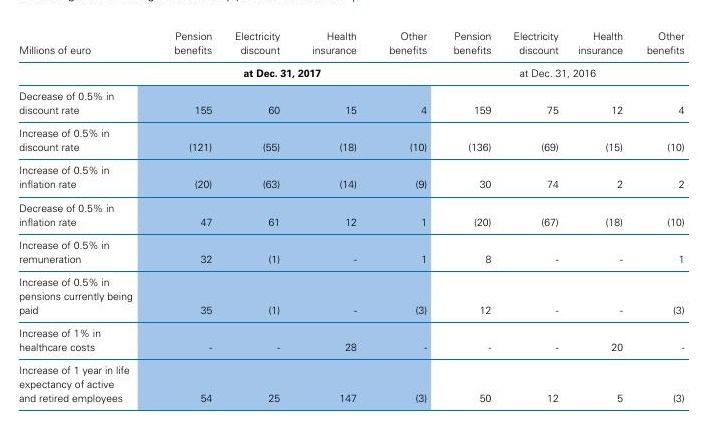table: (0, 0, 703, 426)
